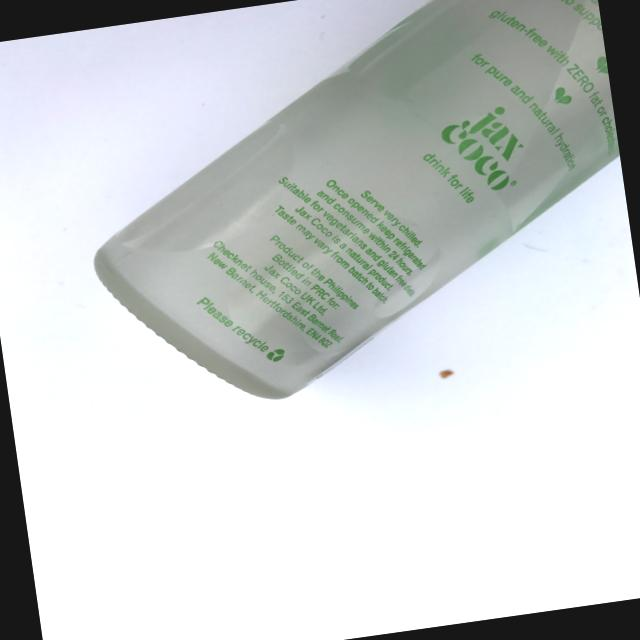Glass: (54, 0, 640, 427)
